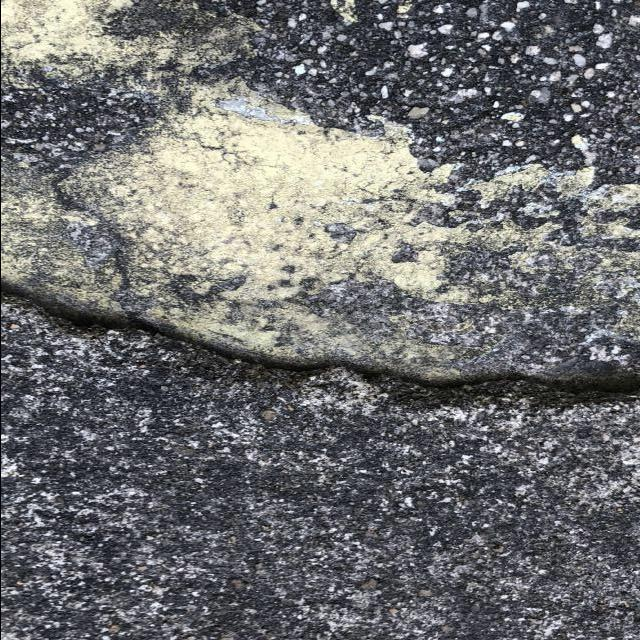SurfaceCrack: (1, 251, 639, 474)
